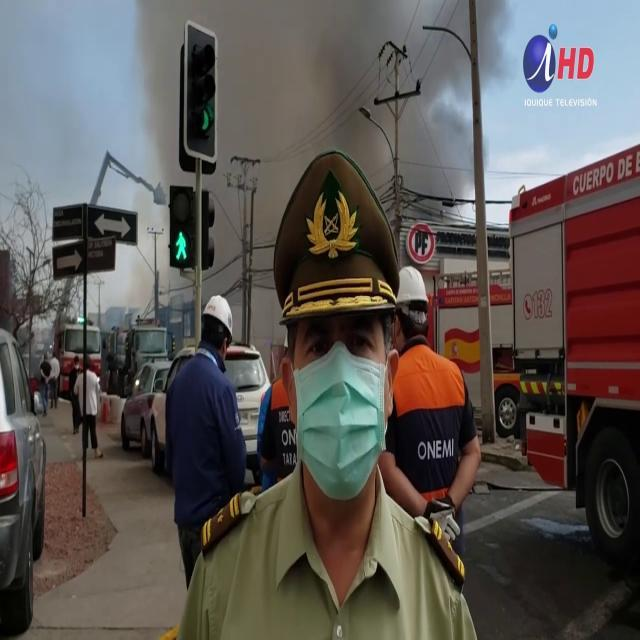Smoke: (126, 0, 516, 218)
